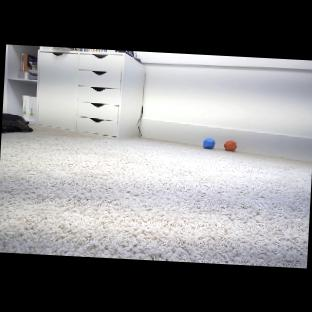V5_BLUE: (201, 137, 216, 150)
V5_RED: (224, 140, 237, 152)
